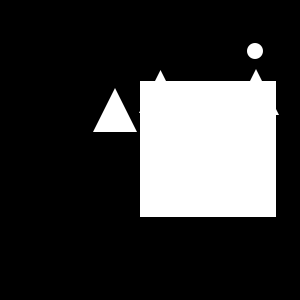circle: (140, 81, 276, 217)
rectangle: (247, 43, 263, 59)
triangle: (233, 69, 279, 115), (93, 88, 137, 132), (139, 70, 182, 113)
